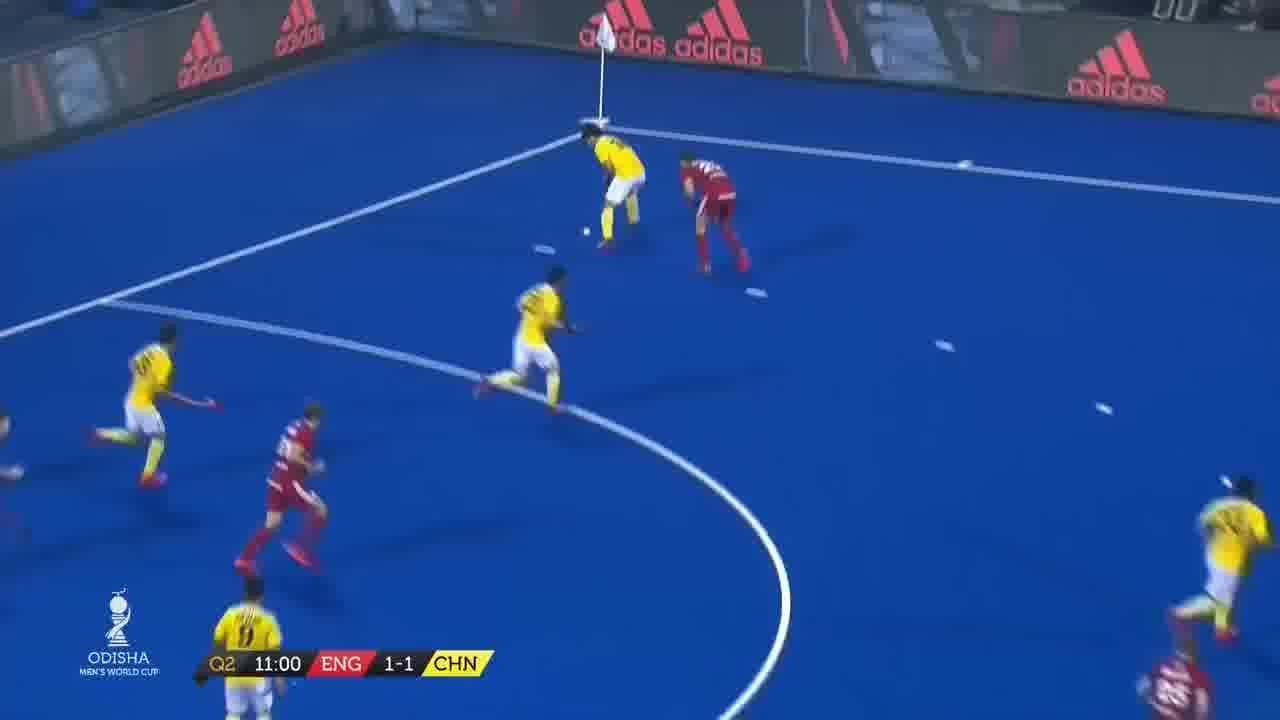ball: (578, 220, 592, 246)
